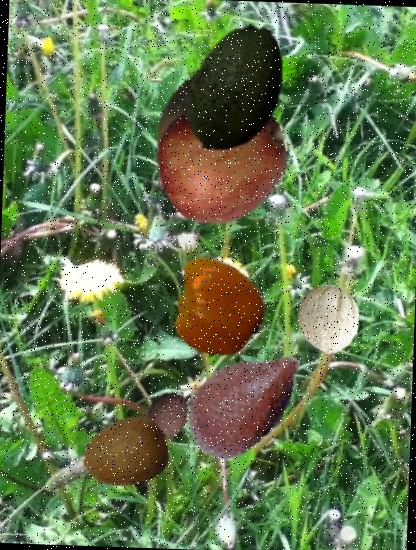Apple: (149, 91, 291, 233)
Avocado: (167, 20, 307, 160)
Cantaloupe: (292, 284, 364, 355)
Cocos: (141, 390, 194, 442)
Kiwi: (79, 406, 171, 498)
Melon: (147, 52, 274, 179)
Pepper: (166, 259, 266, 359)
Salak: (176, 331, 315, 470)
